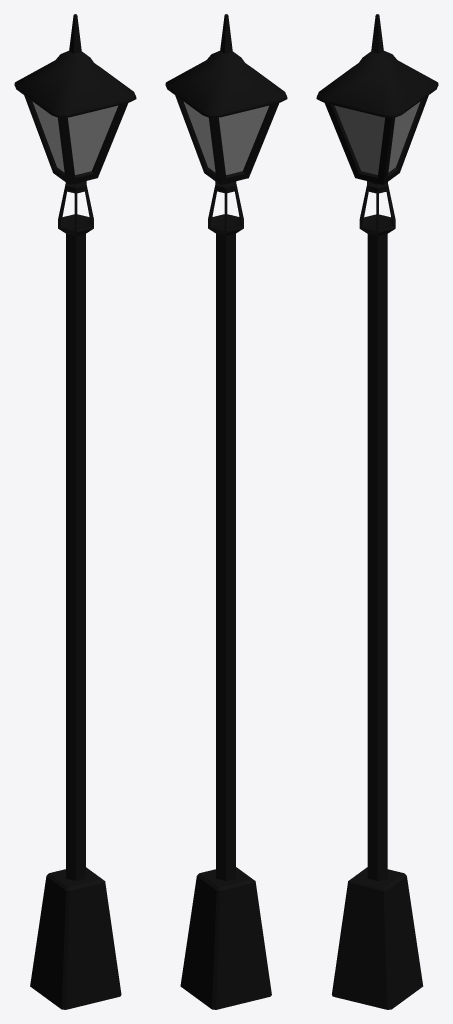
File: StreetLamp.FBX
3 views of the same model, side by side, from view 1: azimuth 30°, elevation 25°; view 2: azimuth 210°, elevation 25°; view 3: azimuth 330°, elevation 25° (orthographic).
Visible parts, largest first — view 1: Box189, Object088; view 2: Box189, Object088; view 3: Box189, Object088.
Part boxes in pixels (x1,y1,x2,y2): Box189: (14,14,136,1009); Object088: (33,102,117,174); Box189: (165,14,287,1009); Object088: (184,102,268,174); Box189: (316,14,438,1009); Object088: (335,102,419,174).
Size of the model in its own units: 5.99 by 67.15 by 5.99.
2 materials, 1 textured.
